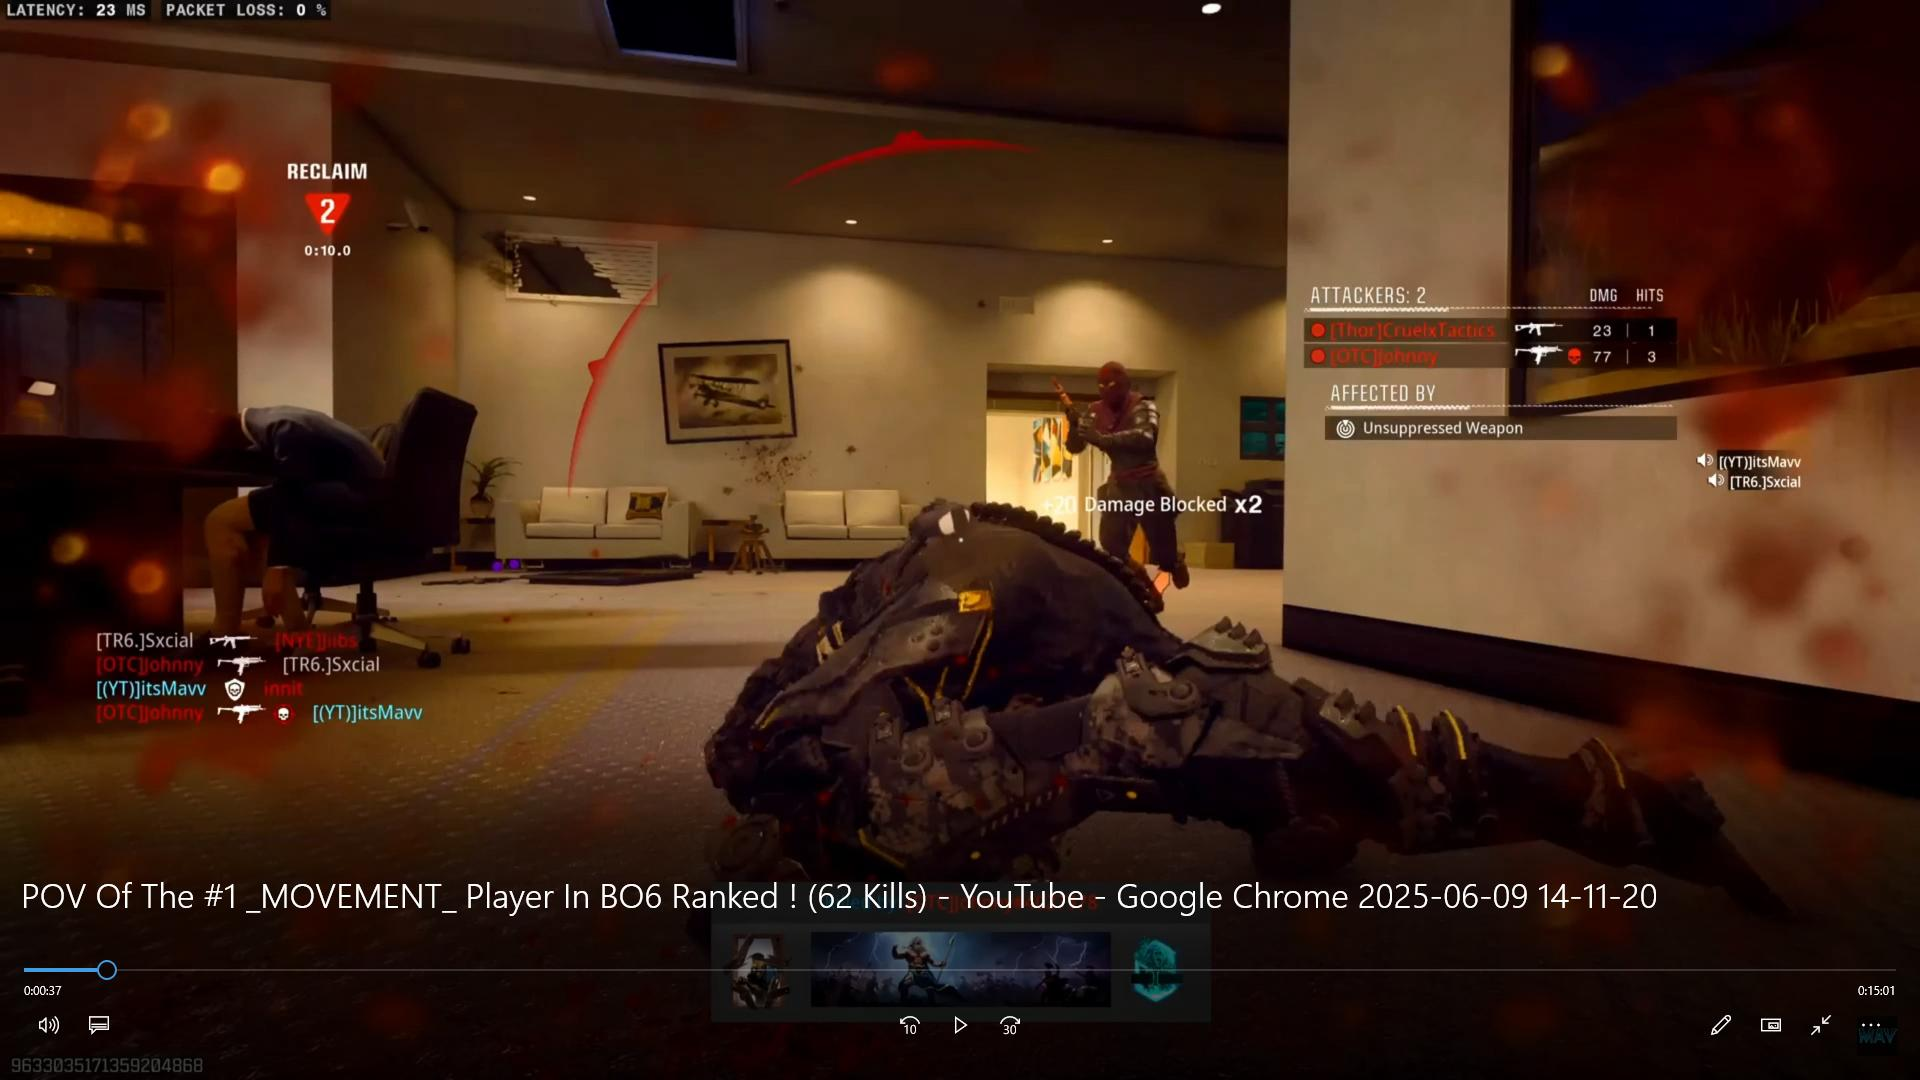Enemy: (1040, 353, 1180, 510)
